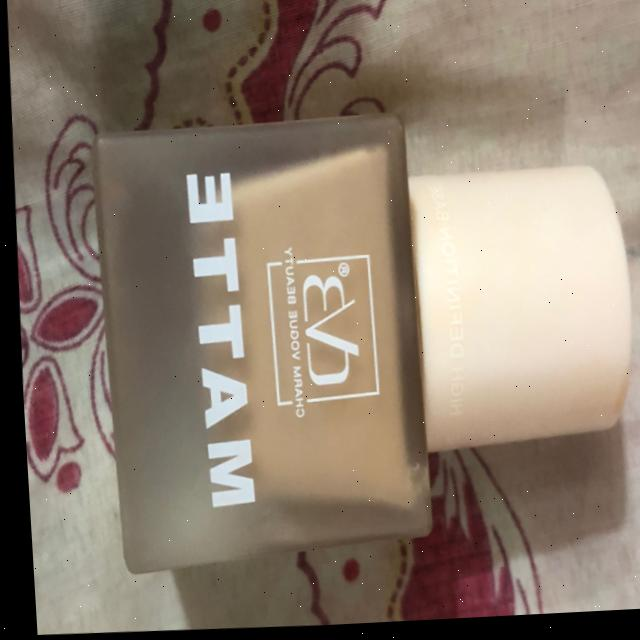foundation: (65, 87, 640, 610)
